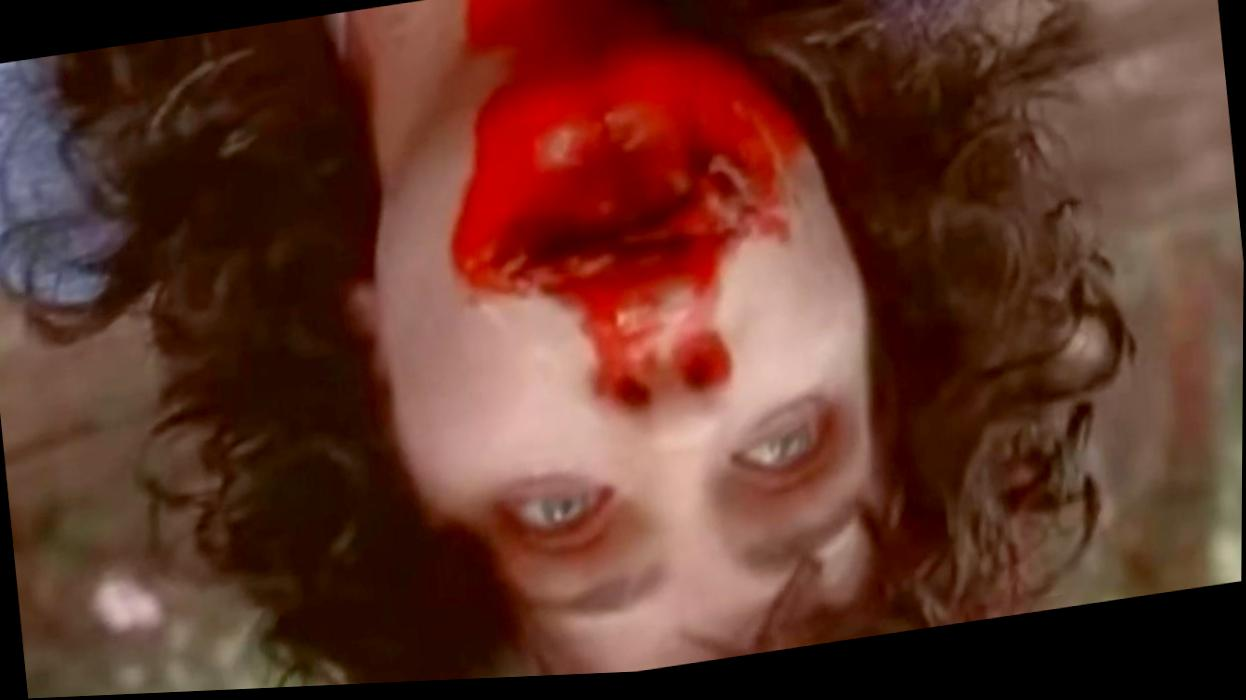Fire: (452, 0, 805, 416)
